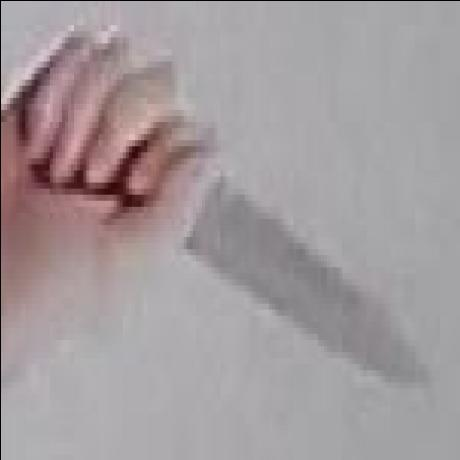1: (0, 18, 215, 399)
weapon: (202, 158, 430, 402)
